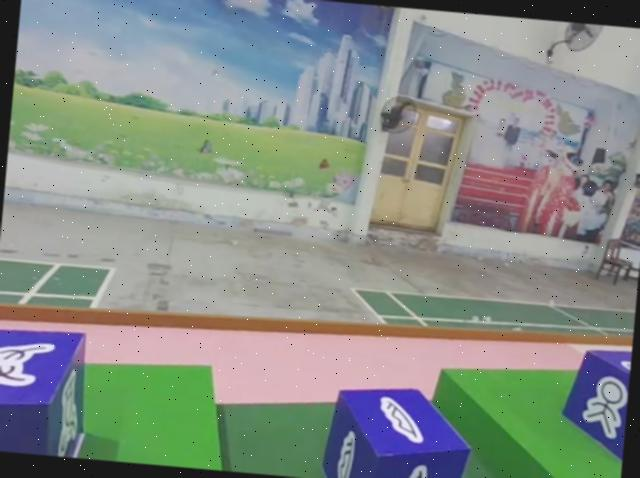R2 Real Blue: (321, 381, 476, 478), (0, 322, 91, 458), (553, 343, 632, 466)
